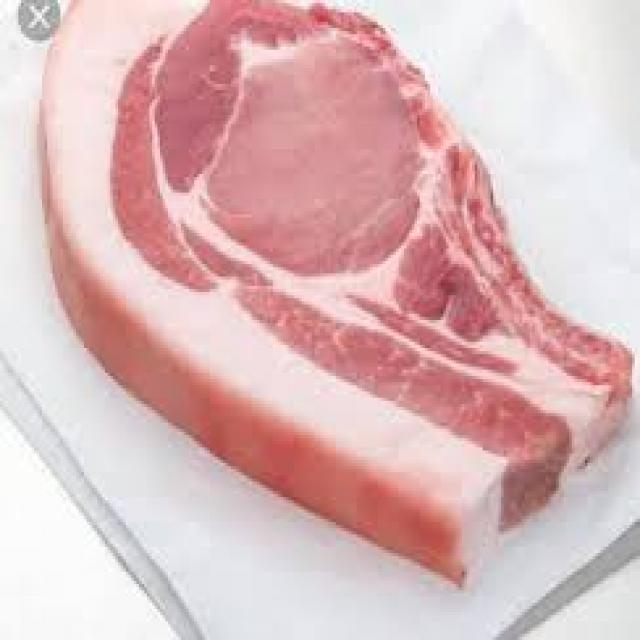pork: (42, 3, 635, 586)
